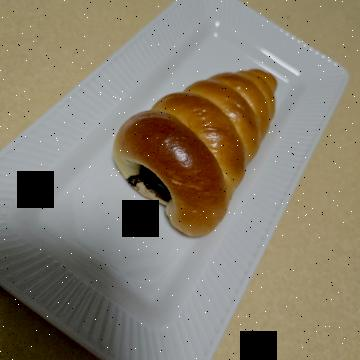cream horn: (42, 70, 295, 268)
